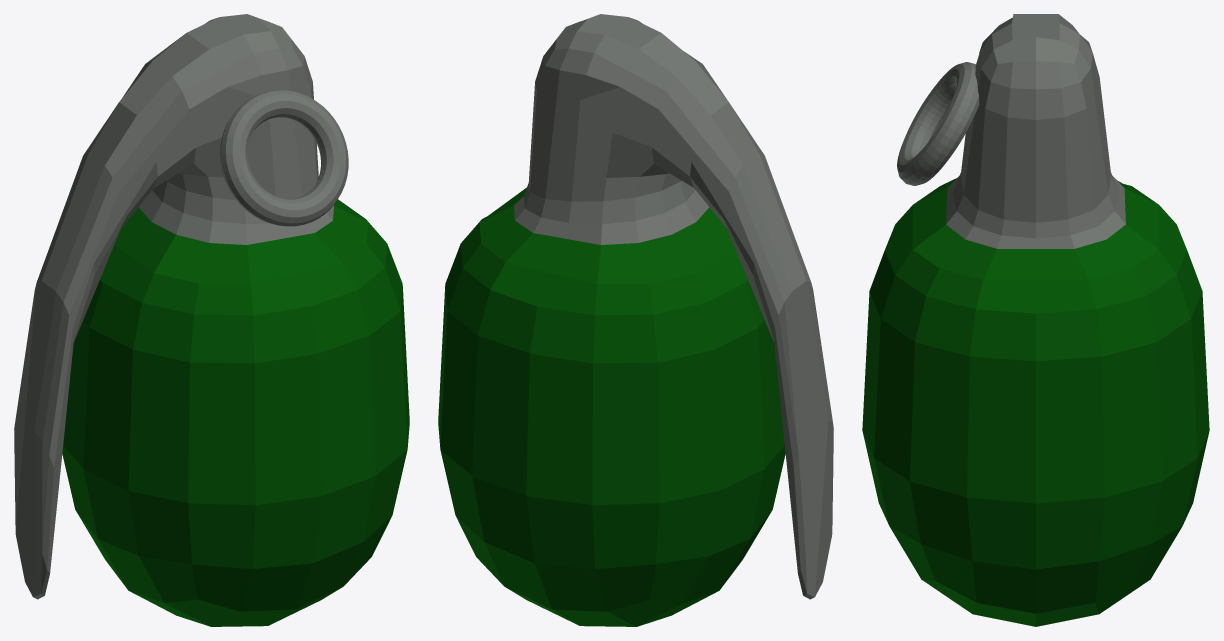
File: Grenade.fbx
3 views of the same model, side by side, from view 1: azimuth 30°, elevation 25°; view 2: azimuth 150°, elevation 25°; view 3: azimuth 270°, elevation 25° (orthographic).
Parts seen in each view (by area): view 1: Cube; view 2: Cube; view 3: Cube.
Part boxes in pixels (x1,y1,x2,y2): Cube: (14,14,409,626); Cube: (438,14,833,626); Cube: (862,14,1209,626).
Bounding box in the file's own units: 206 × 323 × 173.
